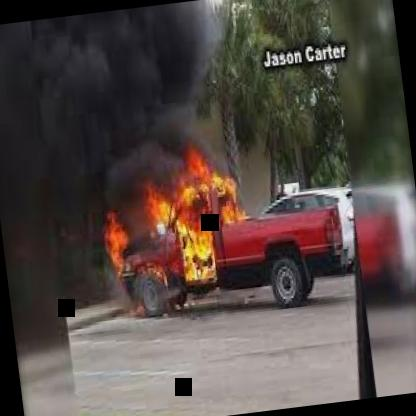fire: (96, 154, 254, 314)
